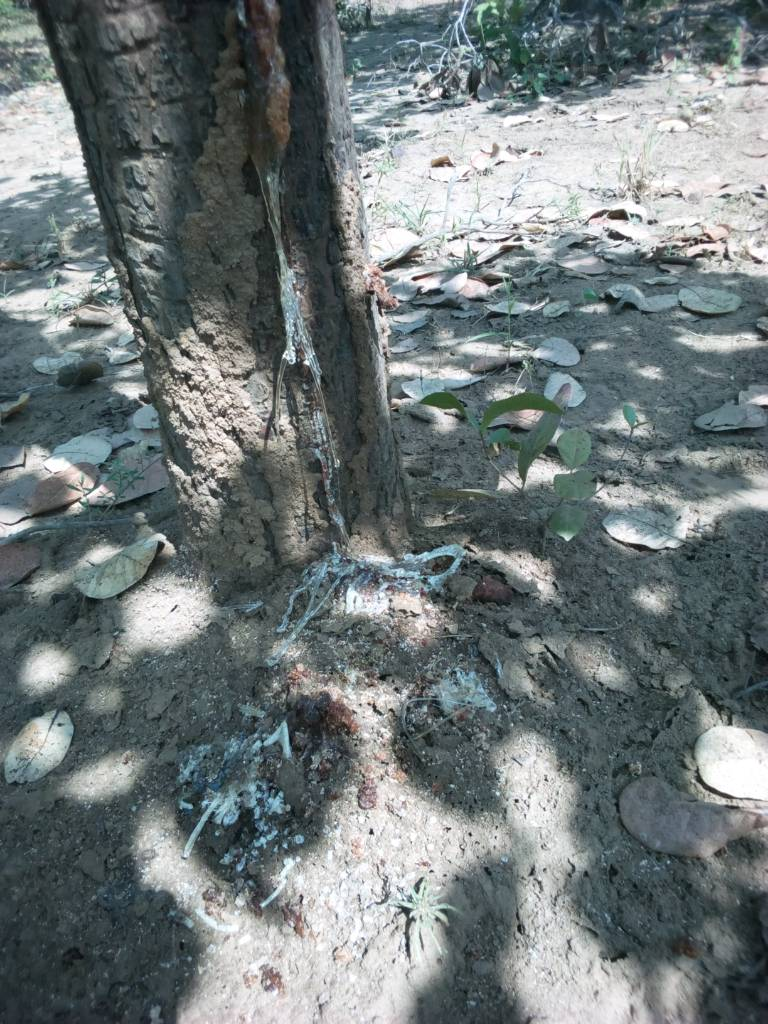Virose: (143, 1, 361, 488)
